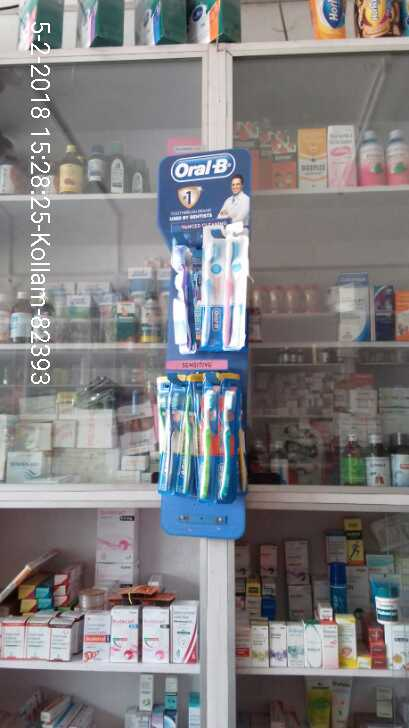oralb: (184, 385, 240, 504), (187, 235, 246, 345), (156, 381, 178, 498)
